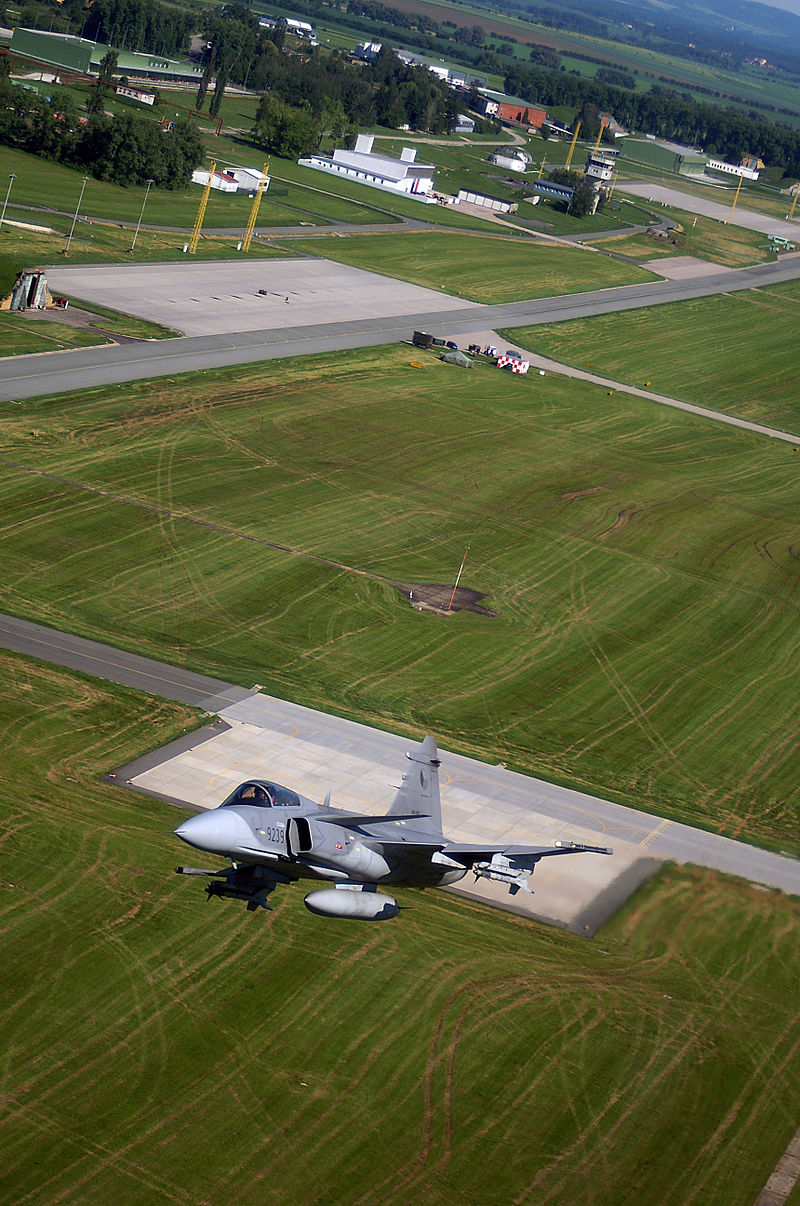JAS39: (156, 735, 613, 921)
